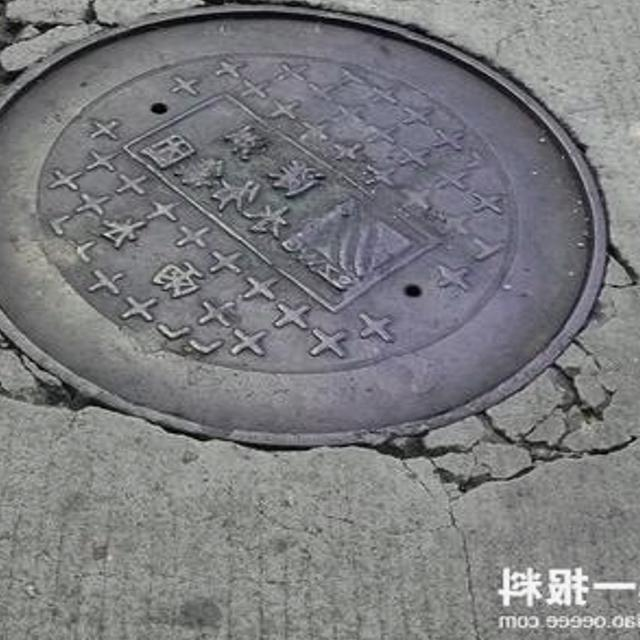circle: (0, 0, 640, 491)
